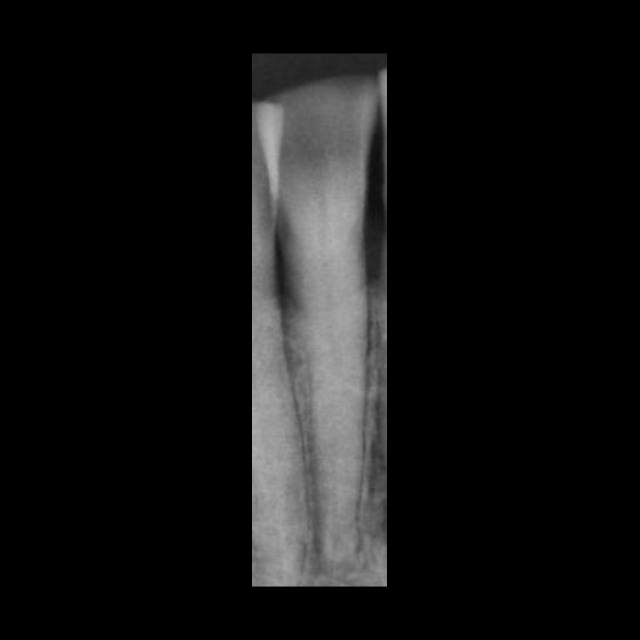tooth: (252, 73, 378, 585)
